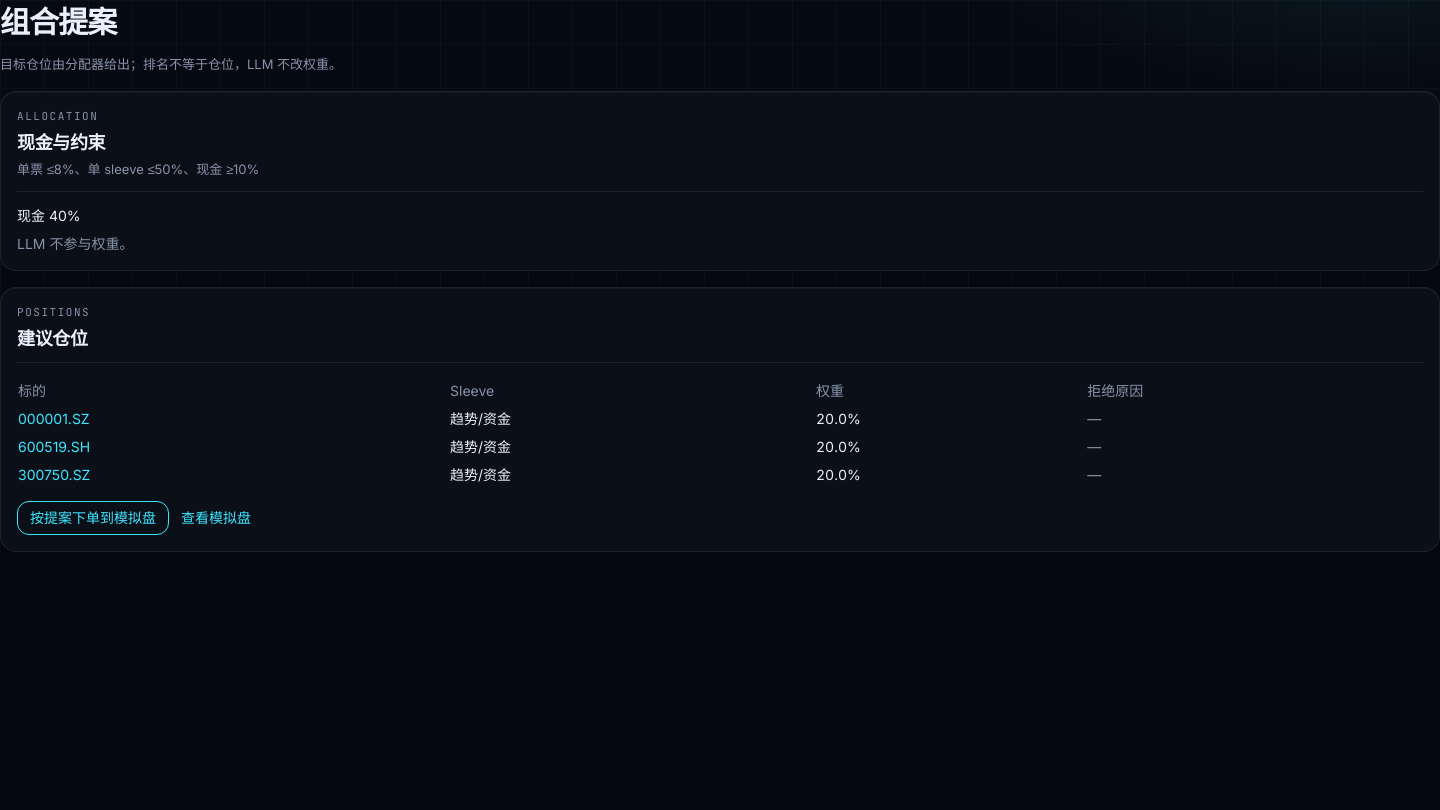
DeskProposalView › opens a confirm dialog and executes the proposal into the paper account
Click the button "按提案下单到模拟盘": (93, 518) [17, 501, 169, 535]
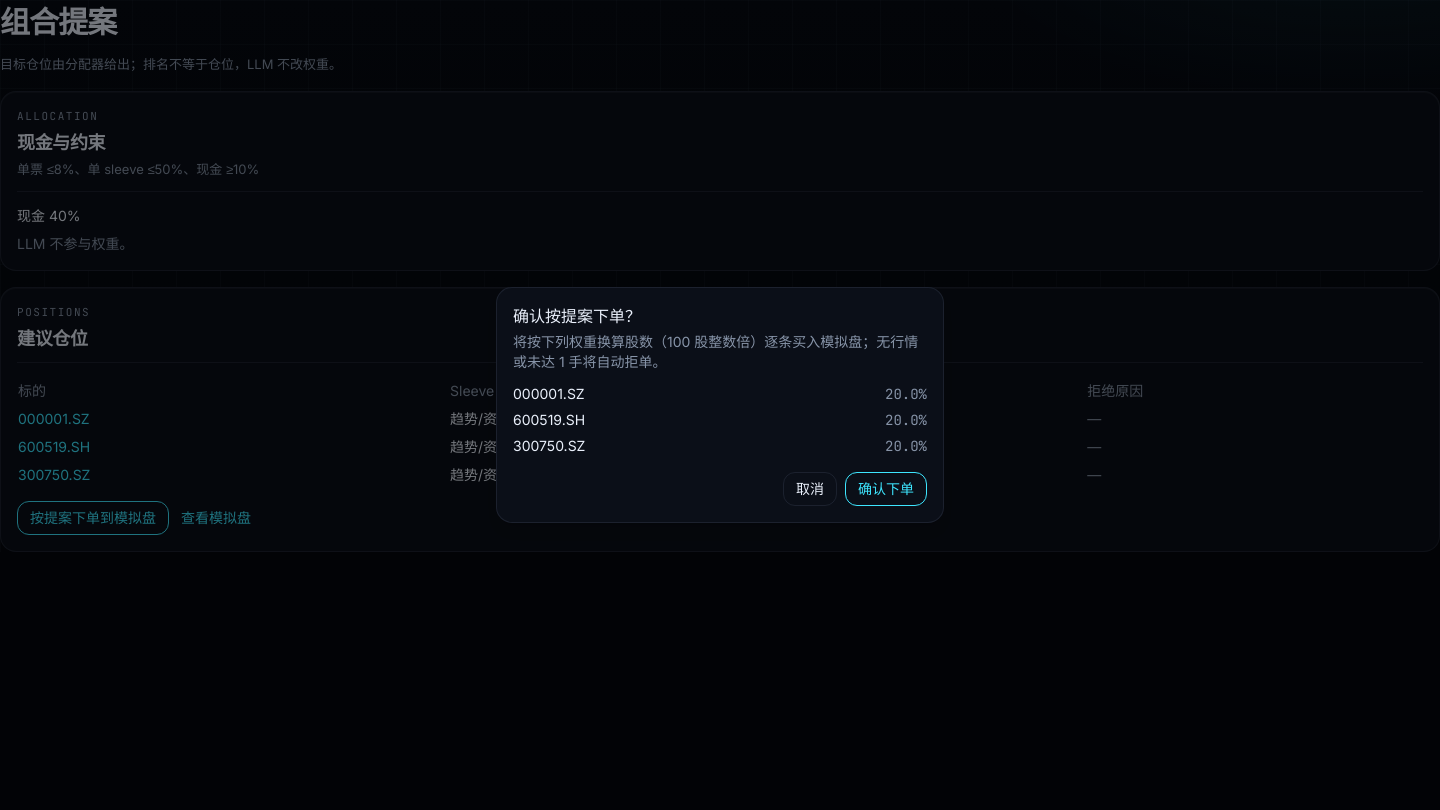
Expected: the element that starts with "确认按提案下单？" is shown, [496, 287, 944, 523]
Expected: the number of list items is 3, [513, 384, 927, 404]; [513, 410, 927, 430]; [513, 436, 927, 456]
Click the button "确认下单": (886, 489) [845, 472, 927, 506]
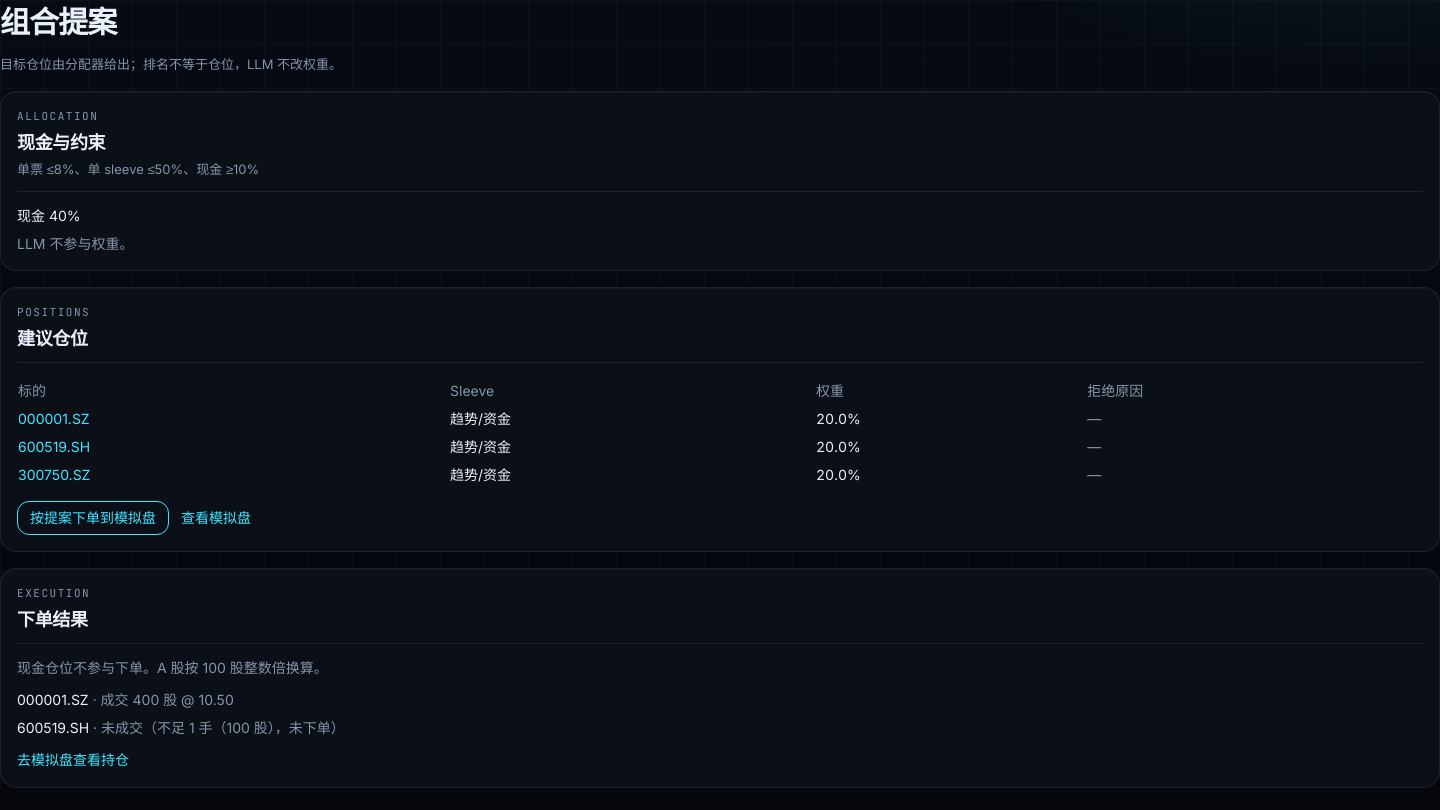
Expected: the list shows "成交 400 股 @ 10.50", [89, 691, 234, 708]
Expected: the list shows "未成交", [89, 719, 345, 736]
